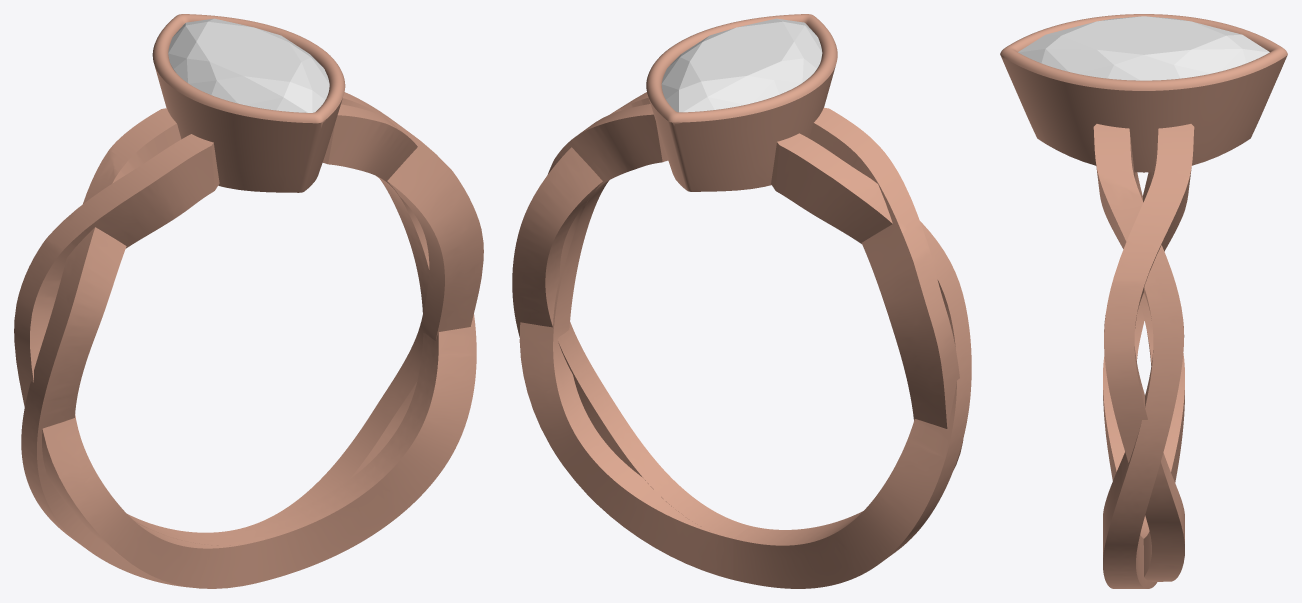
Rendered from diamond-marquise-rosegold-bezelset-twist-nosidestones.glb.
The picture shows the model from 3 angles, left to right: view 1: azimuth 30°, elevation 25°; view 2: azimuth 150°, elevation 25°; view 3: azimuth 270°, elevation 25°; orthographic projection.
Parts seen in each view (by area): view 1: metal.002, stone; view 2: metal.002, stone; view 3: metal.002, stone.
Part boxes in pixels (x1=…): metal.002: x1=14, y1=14, x2=483, y2=588; stone: x1=168, y1=18, x2=329, y2=112; metal.002: x1=512, y1=14, x2=971, y2=588; stone: x1=661, y1=18, x2=822, y2=112; metal.002: x1=1000, y1=14, x2=1287, y2=588; stone: x1=1018, y1=16, x2=1269, y2=80.
Size of the model in its own units: 19.97 by 22.84 by 11.31.
